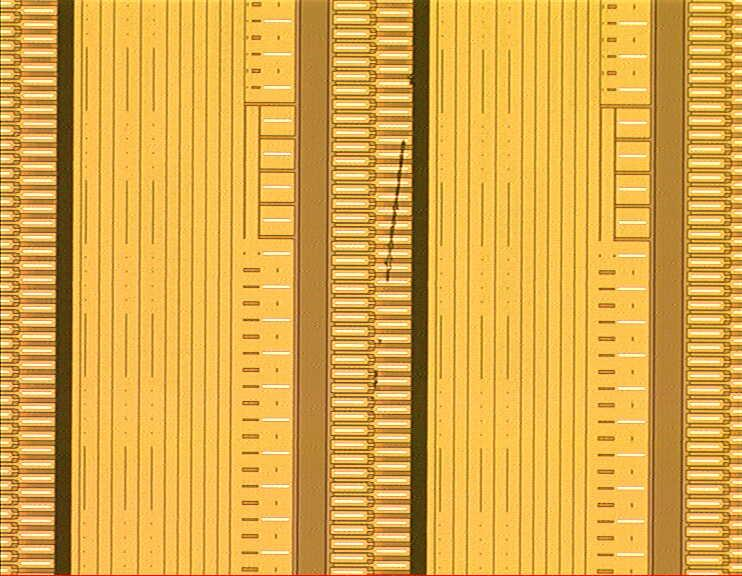SCRATCH: (364, 65, 423, 407)
